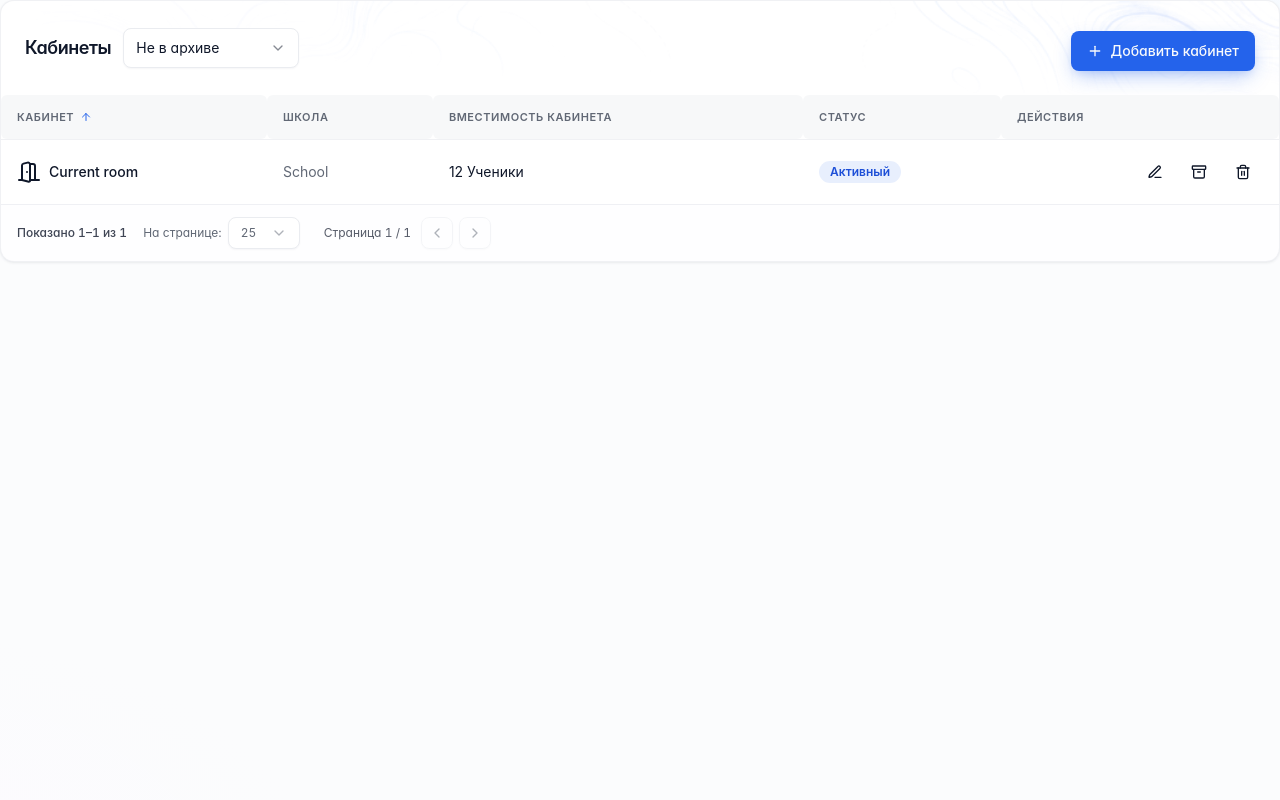
Test: cancels an archive action for rooms without changing data
Click the button named "Архивировать кабинет" at (1199, 172), box [1179,152,1219,192]
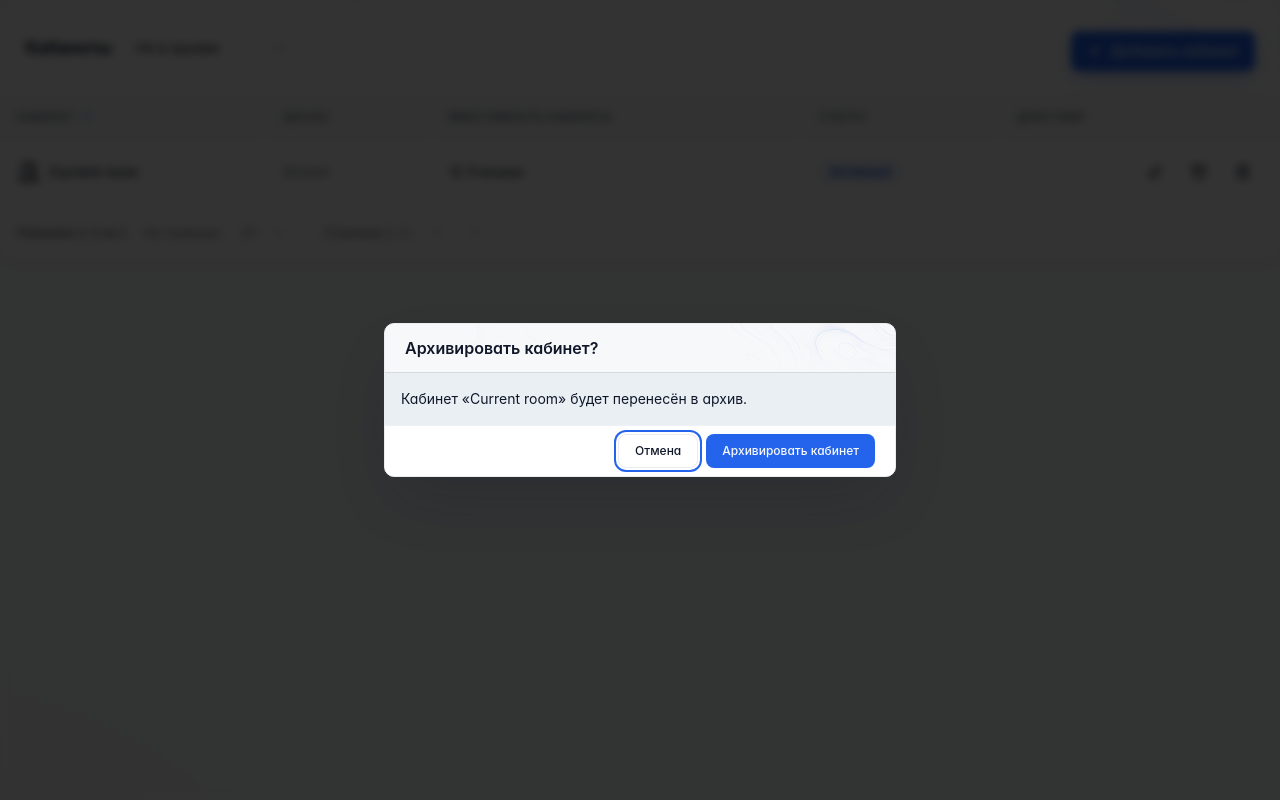
Click the button "Отмена" at (658, 451), box [618,434,698,468]
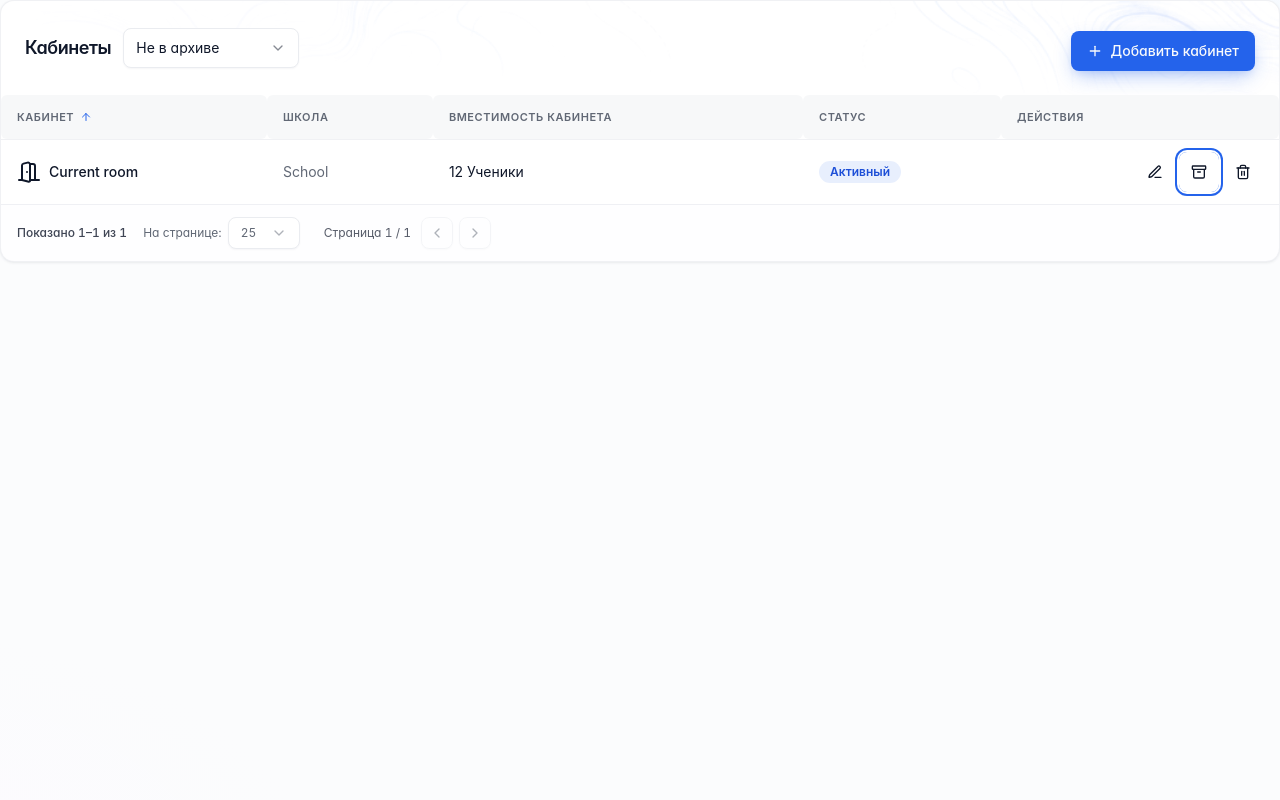
Check: the dialog is gone
